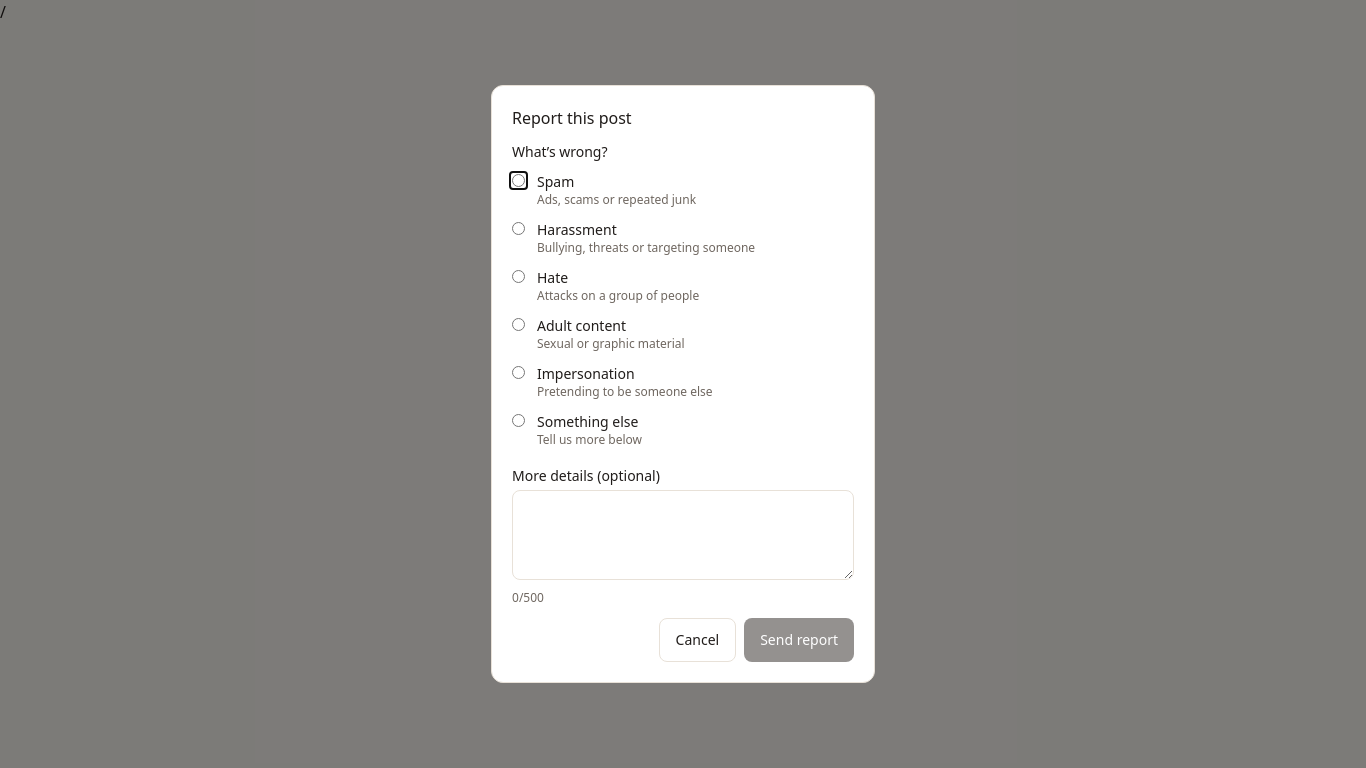
Test: ReportDialog › treats an already-reported target as a normal success
Step 1. Click the radio button labelled "Spam Ads, scams or repeated junk" → [518, 180], box [512,174,525,187]
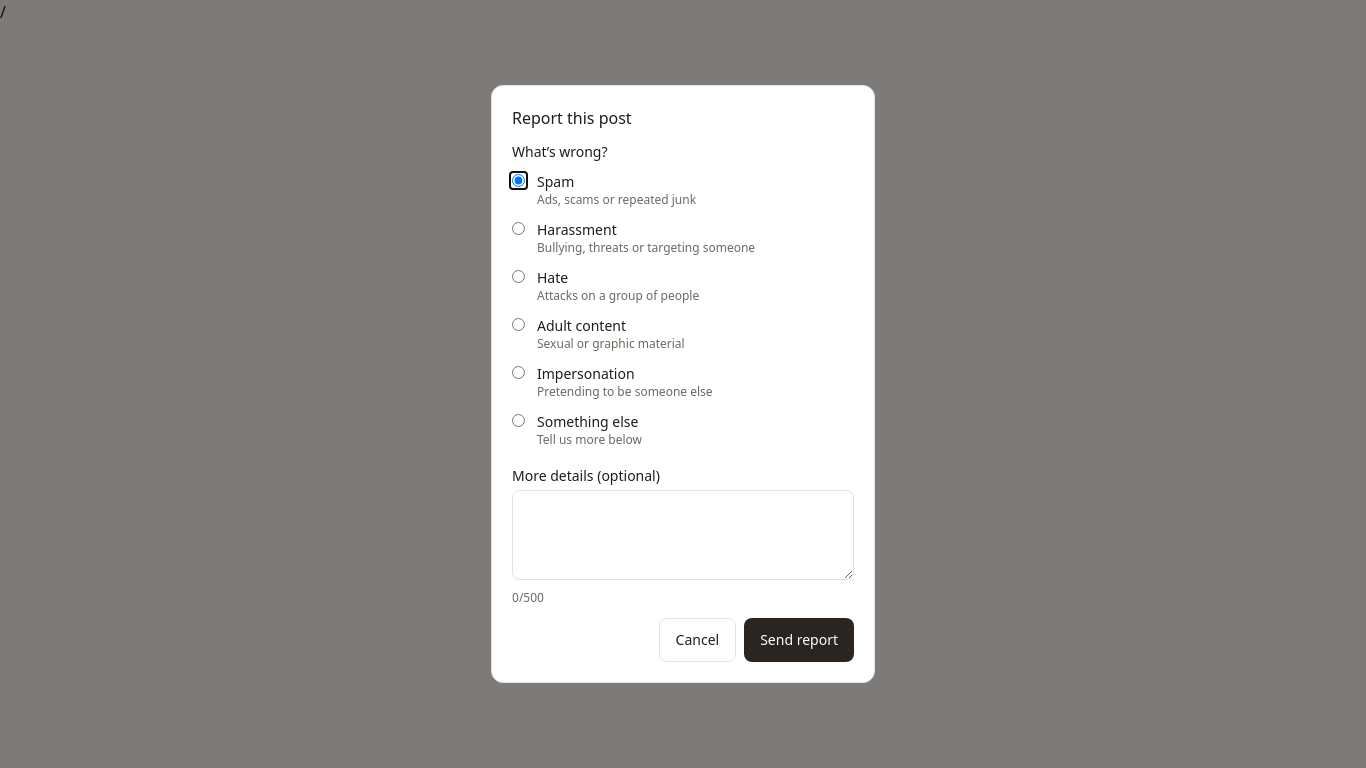
Step 2. Click the button "Send report" → [799, 640], box [744,618,854,662]
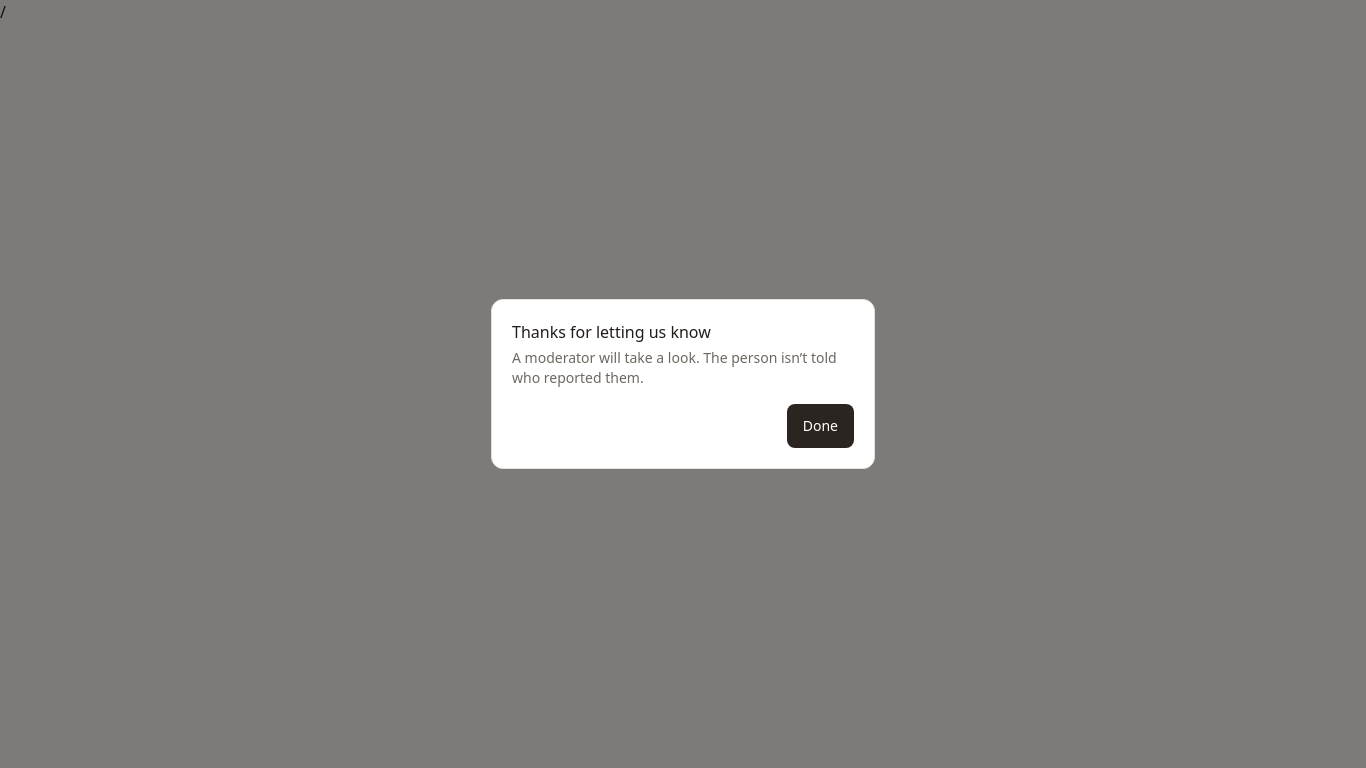
expect the heading "Thanks for letting us know" is shown: met, box [512,321,711,343]
